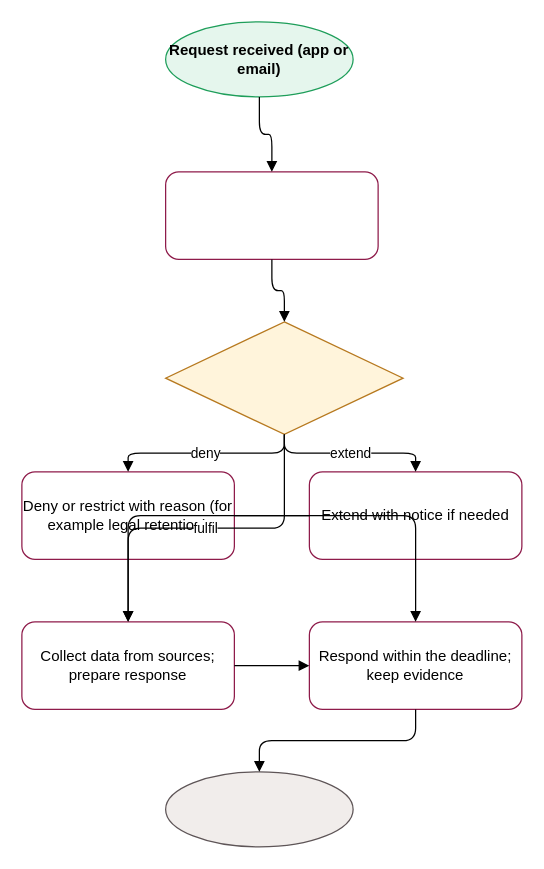
The diagram is 544 pixels wide and 869 high, and some of its shapes have lost their labels. The centre of each missing label's shape, as x and y in pixels:
"Closed" belongs at (258,809).
"Request type and legal basis" belongs at (283,377).
"Verify identity" belongs at (271,215).
